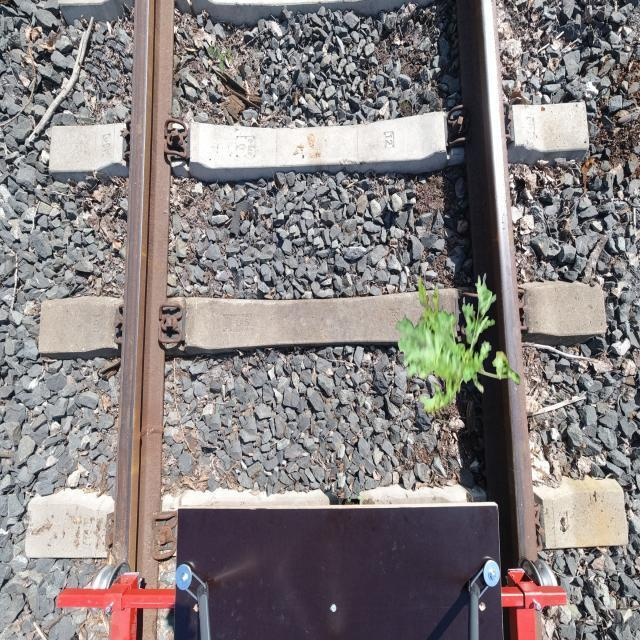Plant: (396, 273, 521, 420), (207, 41, 234, 72)
